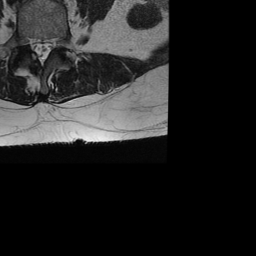CCS_normal: (37, 28, 45, 72)
LFS_normal: (53, 28, 62, 56)
LLS_normal: (45, 28, 53, 61)
RFS_normal: (20, 26, 28, 53)
RLS_normal: (28, 28, 38, 60)
